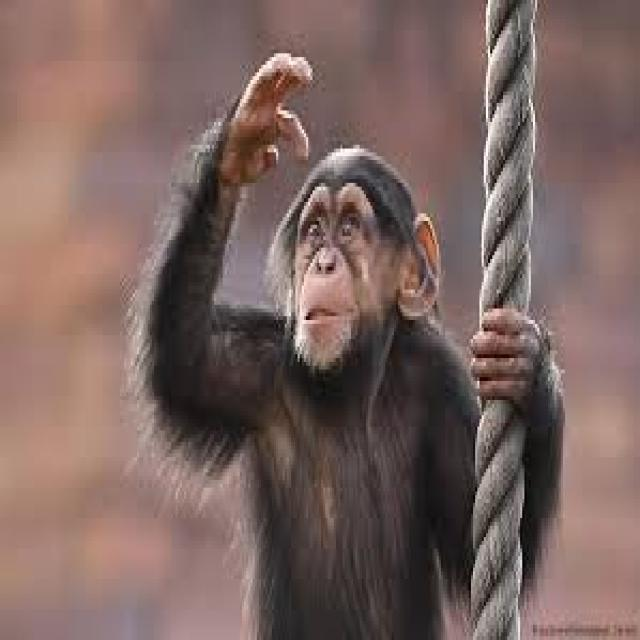Chimpanzee: (128, 54, 581, 632)
